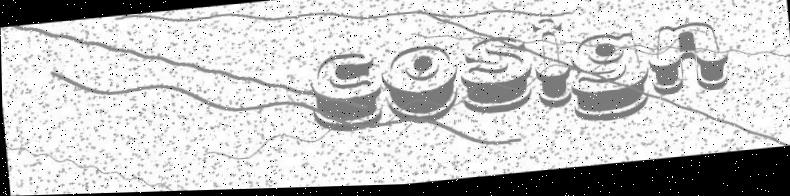c: (307, 51, 384, 137)
g: (566, 34, 652, 129)
i: (529, 19, 573, 114)
n: (645, 23, 731, 101)
o: (378, 44, 461, 129)
s: (457, 36, 535, 121)
